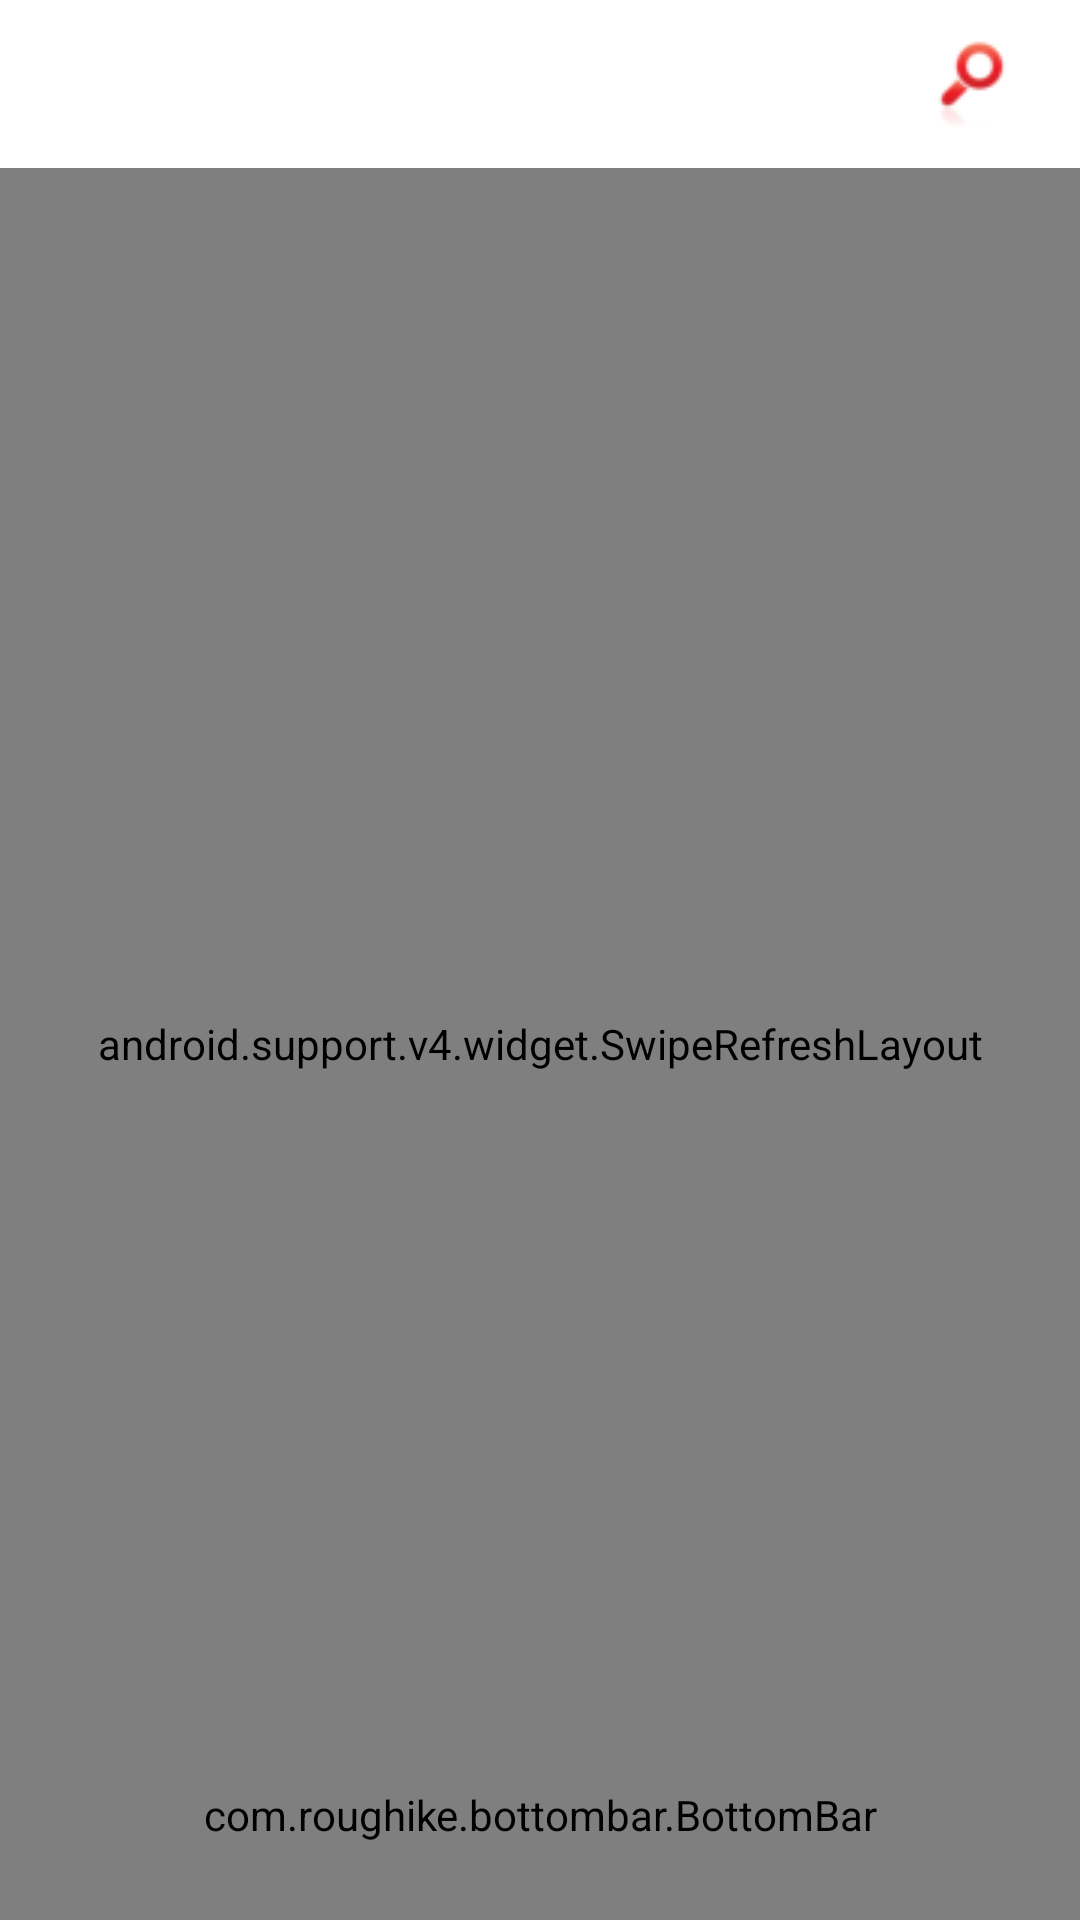

Icons on this 1080×1920 Android screen, each with its box as (x1, y1, x2, y2):
search: (939, 41, 1004, 116)
